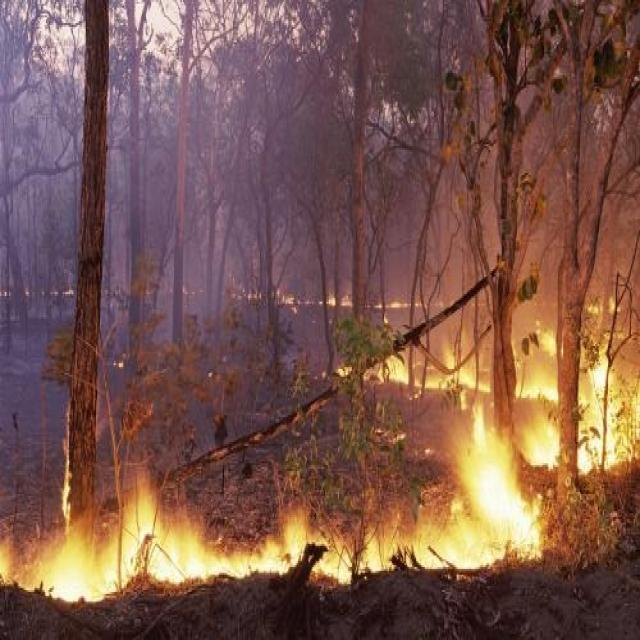Fire: (1, 288, 640, 606)
